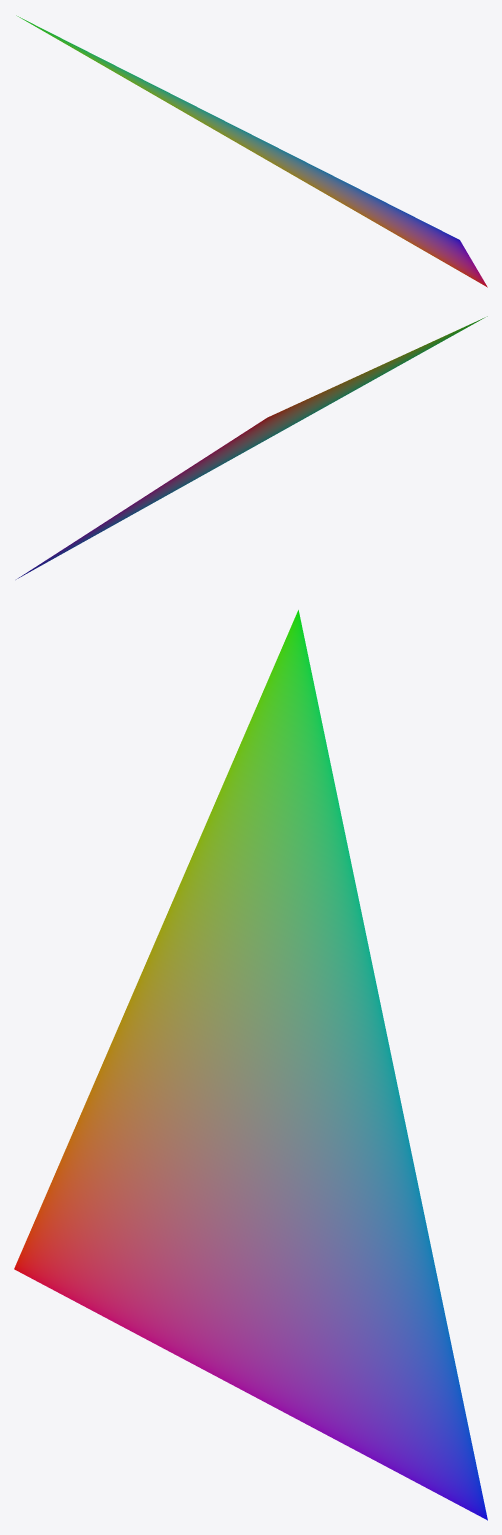
Rendered from face_cleaning_conquest_75.obj.
The picture shows the model from 3 angles, top to bottom: view 1: azimuth 30°, elevation 25°; view 2: azimuth 150°, elevation 25°; view 3: azimuth 270°, elevation 25°; orthographic projection. The views are drawn at different scales.
Size of the model in its own units: 0.9272 by 0.691 by 0.5296.
